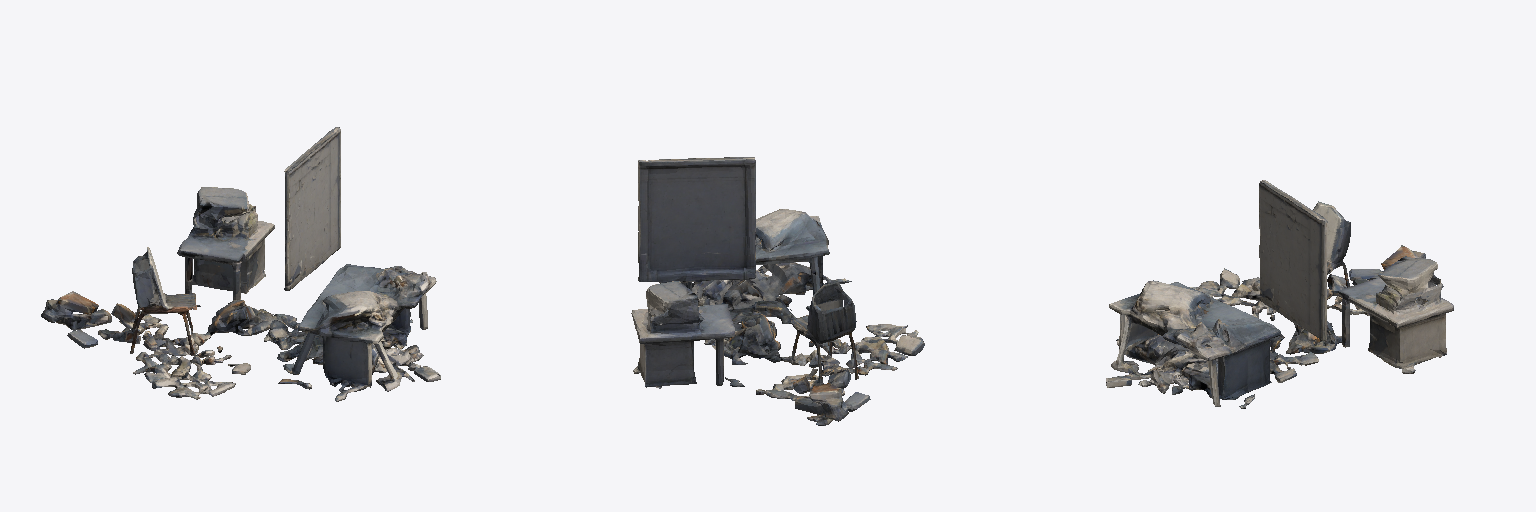
3 views of the same model, side by side, from view 1: azimuth 30°, elevation 25°; view 2: azimuth 150°, elevation 25°; view 3: azimuth 270°, elevation 25° (orthographic).
Parts seen in each view (by area): view 1: make_a_low_poly_demol_[number redacted]_texture; view 2: make_a_low_poly_demol_[number redacted]_texture; view 3: make_a_low_poly_demol_[number redacted]_texture.
Part boxes in pixels (x1,y1,x2,y2): make_a_low_poly_demol_[number redacted]_texture: (41,127,440,401); make_a_low_poly_demol_[number redacted]_texture: (631,157,924,425); make_a_low_poly_demol_[number redacted]_texture: (1106,180,1453,408).
Bounding box in the file's own units: 1.78 × 1.01 × 1.85.
Materials: 1 (1 with a texture image).